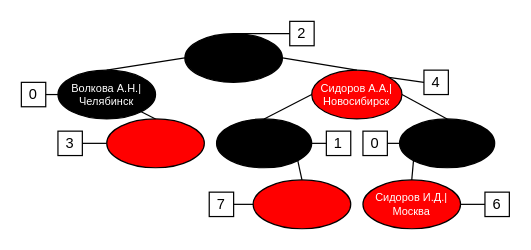
The diagram is 531 pixels wide and 250 high, and some of its shapes have lost their labels. Each missing label, with the centre of its shape:
"Кузнецова Н.Н|Омск" belongs at (155,143).
"Лебедева Е.Д .|Самара" belongs at (233,57).
"Новиков И.Н|Омск" belongs at (263,143).
"Попов П.И.| Ростов" belongs at (301,204).
"Смирнов А.А.|Москва" belongs at (446,143).
